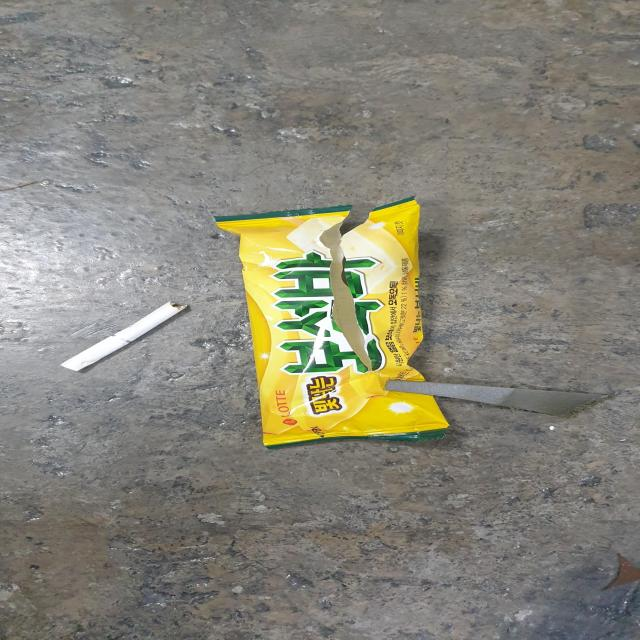litter: (204, 194, 442, 447)
